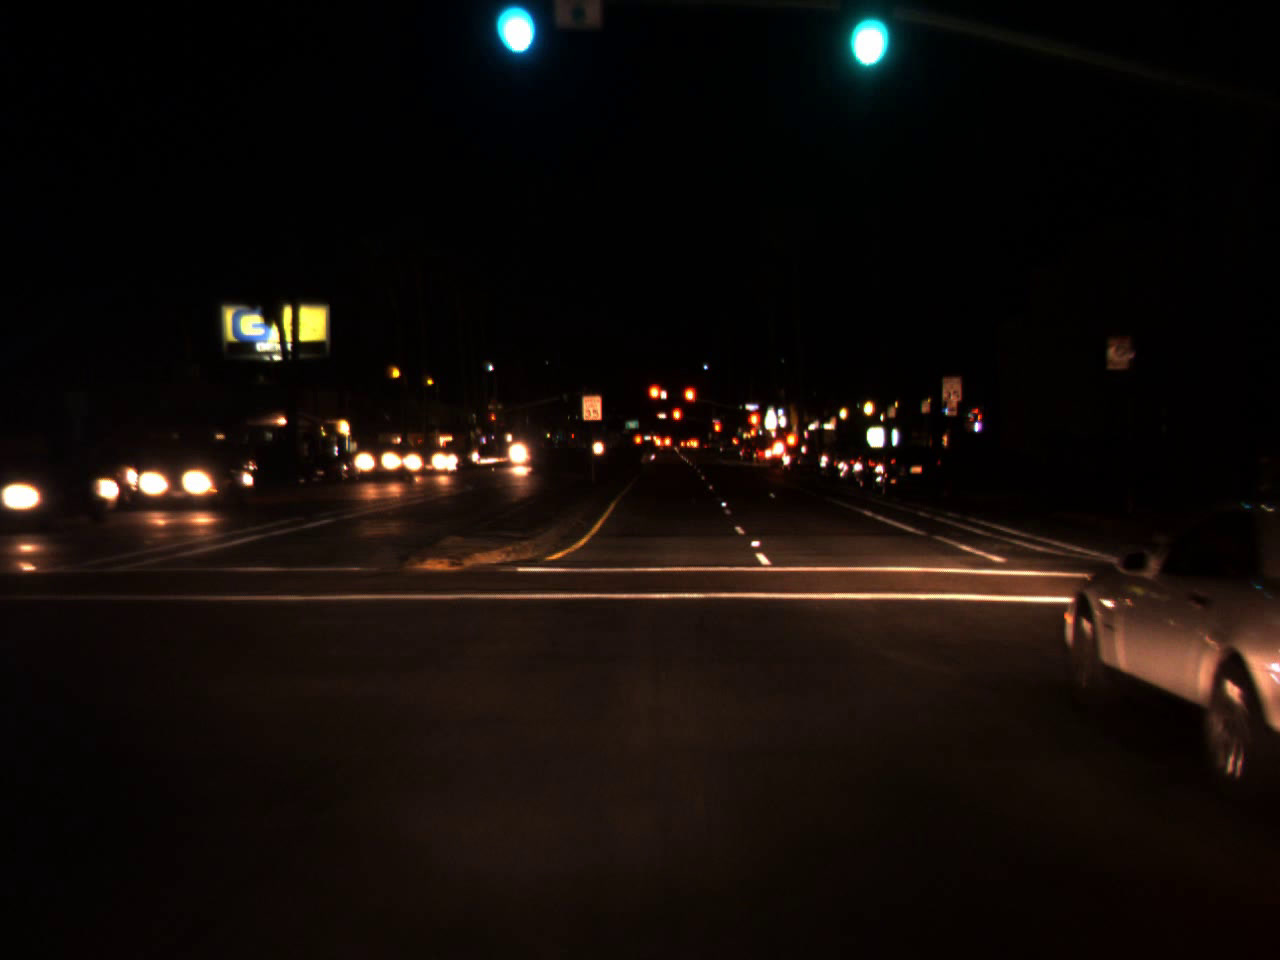go: (844, 0, 887, 76), (492, 0, 538, 63)
stop: (645, 383, 664, 415), (682, 386, 697, 415), (748, 411, 760, 443), (671, 406, 683, 435), (712, 420, 721, 444), (489, 412, 496, 428)
